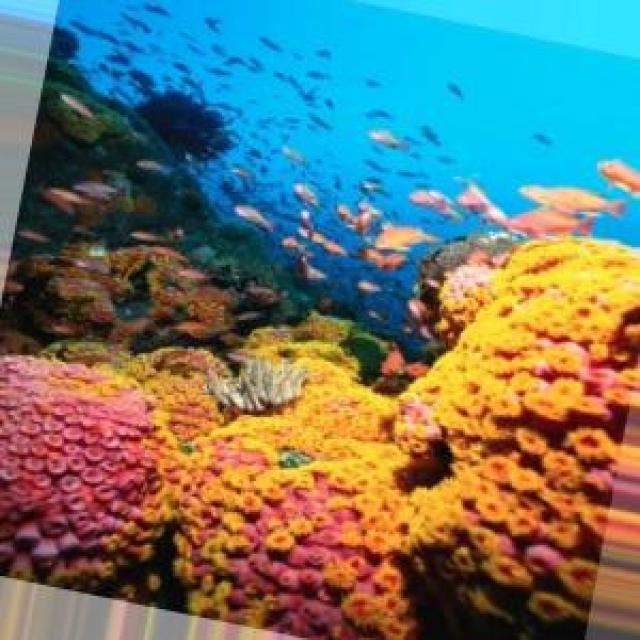healthy coral: (395, 238, 640, 638), (174, 416, 416, 638), (0, 357, 172, 603), (250, 340, 396, 442), (128, 348, 228, 440)
